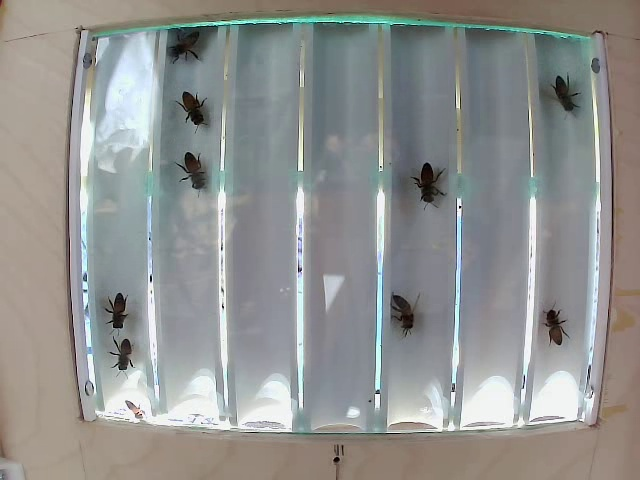bee: (368, 285, 434, 341), (409, 143, 456, 197), (525, 296, 567, 356), (99, 326, 148, 377), (160, 28, 212, 69), (95, 283, 144, 317), (178, 149, 211, 196), (170, 99, 208, 137), (545, 56, 573, 102)
